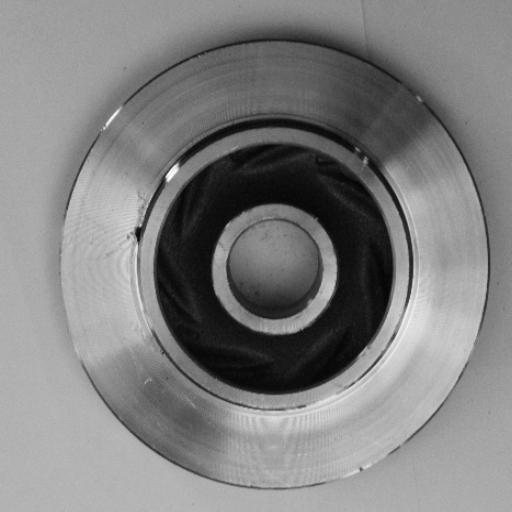crack: (124, 200, 154, 269)
scratch: (335, 139, 389, 191), (139, 149, 191, 199)
unpolished_casting: (62, 36, 491, 494)
